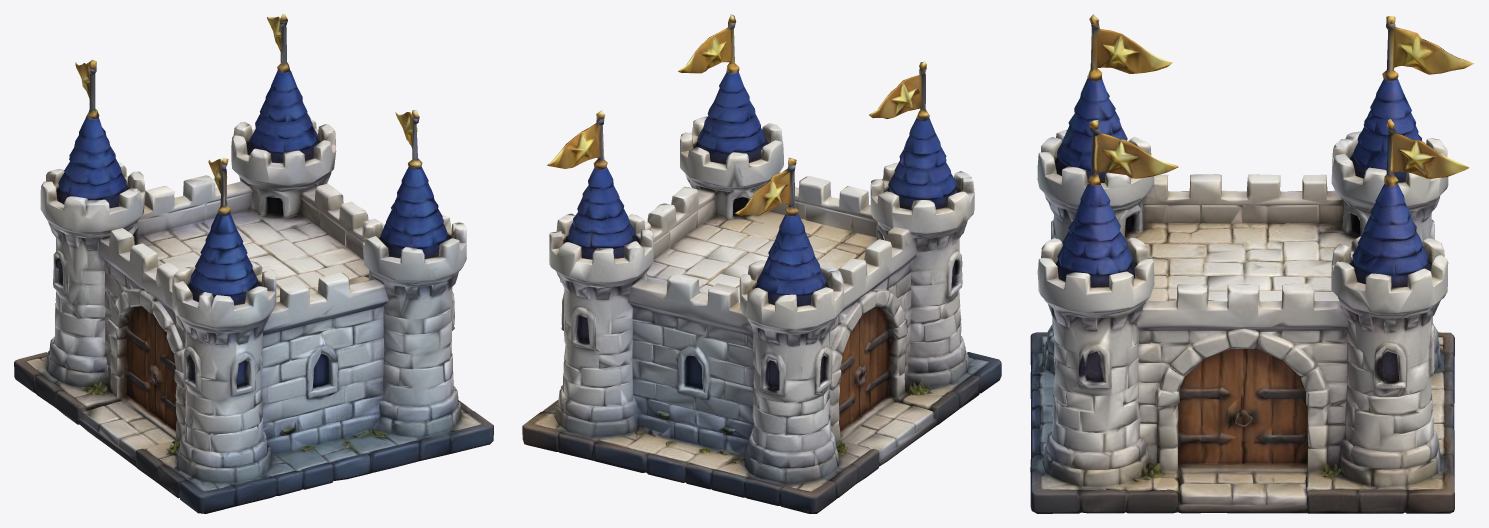
File: stronghold-mid.glb
The picture shows the model from 3 angles, left to right: view 1: azimuth 30°, elevation 25°; view 2: azimuth 150°, elevation 25°; view 3: azimuth 270°, elevation 25°; orthographic projection. The views are drawn at different scales.
Parts seen in each view (by area): view 1: tripo_node_7bb1924c-1af9-4d30-9045-656bc50eccb8; view 2: tripo_node_7bb1924c-1af9-4d30-9045-656bc50eccb8; view 3: tripo_node_7bb1924c-1af9-4d30-9045-656bc50eccb8.
Part boxes in pixels (bbox=[...]): tripo_node_7bb1924c-1af9-4d30-9045-656bc50eccb8: bbox=[14, 14, 493, 513]; tripo_node_7bb1924c-1af9-4d30-9045-656bc50eccb8: bbox=[522, 14, 1001, 513]; tripo_node_7bb1924c-1af9-4d30-9045-656bc50eccb8: bbox=[1030, 14, 1473, 513].
Size of the model in its own units: 0.8655 by 0.9095 by 0.9998.
Materials: 1 (1 with a texture image).
